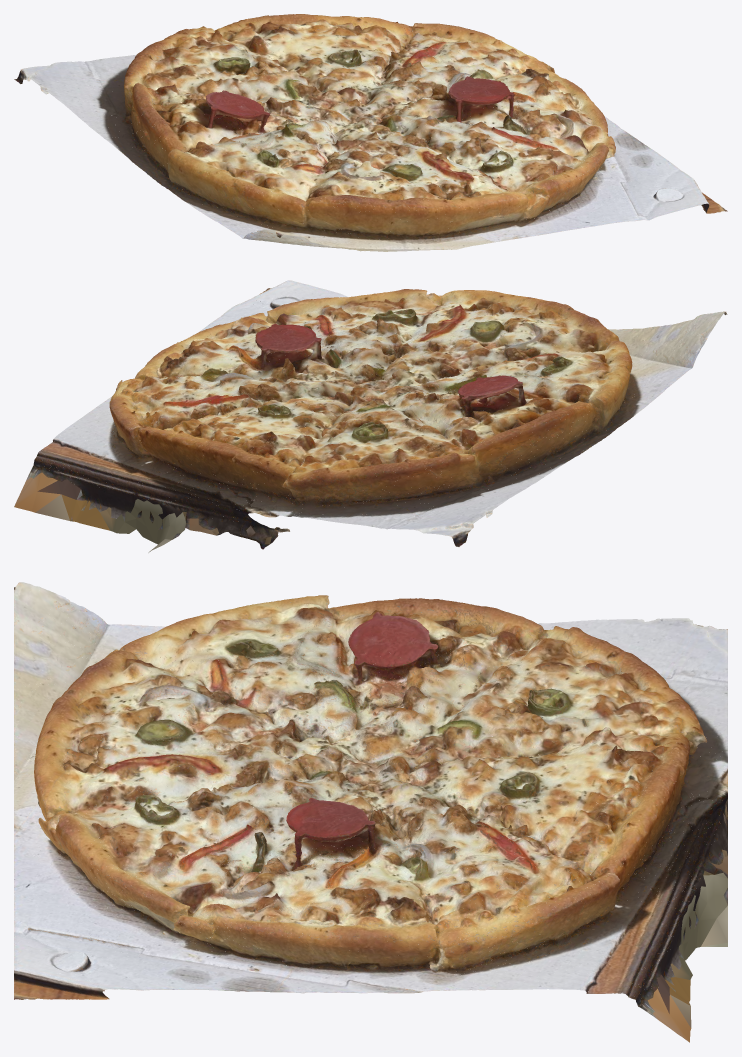
Rendered from pizza-optimize-v1.glb.
3 renders of one model, top to bottom at view 1: azimuth 30°, elevation 25°; view 2: azimuth 150°, elevation 25°; view 3: azimuth 270°, elevation 25°, orthographic. The views are drawn at different scales.
Visible parts, largest first — view 1: Object_8, Object_9, Object_10, Object_2, Object_7, Object_6, Object_3, Object_5, Object_4, Object_11, Object_12; view 2: Object_2, Object_4, Object_3, Object_5, Object_8, Object_6, Object_7, Object_10, Object_9, Object_11, Object_12; view 3: Object_5, Object_2, Object_9, Object_10, Object_6, Object_4, Object_7, Object_3, Object_11, Object_8, Object_12.
Boxes of the visible parts, x1,y1,x2,y2 form: Object_8: (101, 92, 460, 249); Object_9: (113, 69, 654, 251); Object_10: (195, 69, 727, 248); Object_2: (79, 14, 553, 168); Object_7: (149, 78, 656, 220); Object_6: (238, 99, 603, 203); Object_3: (91, 14, 503, 102); Object_5: (274, 19, 708, 220); Object_4: (14, 16, 516, 136); Object_11: (186, 50, 581, 137); Object_12: (359, 51, 560, 123); Object_2: (57, 376, 591, 515); Object_4: (33, 386, 542, 546); Object_3: (110, 377, 512, 528); Object_5: (14, 280, 627, 552); Object_8: (447, 321, 703, 474); Object_6: (298, 290, 630, 398); Object_7: (190, 290, 599, 439); Object_10: (242, 280, 727, 424); Object_9: (96, 290, 726, 471); Object_11: (127, 325, 508, 432); Object_12: (127, 326, 357, 404); Object_5: (14, 633, 727, 1042); Object_2: (359, 606, 689, 990); Object_9: (14, 582, 493, 992); Object_10: (14, 582, 493, 999); Object_6: (73, 623, 408, 893); Object_4: (464, 618, 727, 1006); Object_7: (44, 602, 452, 965); Object_3: (408, 609, 727, 919); Object_11: (293, 625, 493, 926); Object_8: (30, 595, 493, 747); Object_12: (293, 786, 493, 960).
Size of the model in its own units: 0.3192 by 0.0889 by 0.3236.
Materials: 1 (1 with a texture image).
